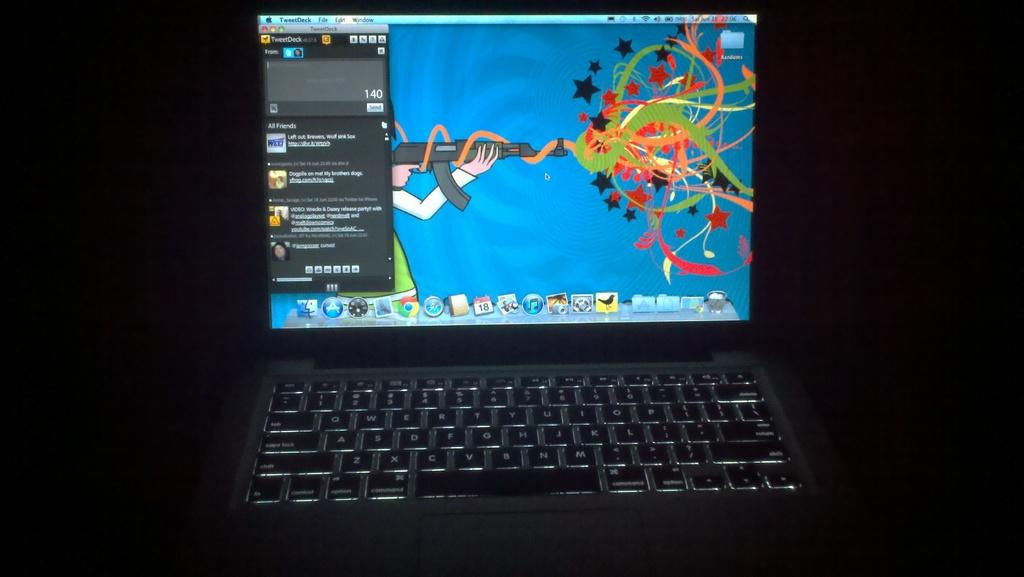Computer-keyboard: (250, 367, 806, 505)
Laptop: (228, 17, 833, 573)
